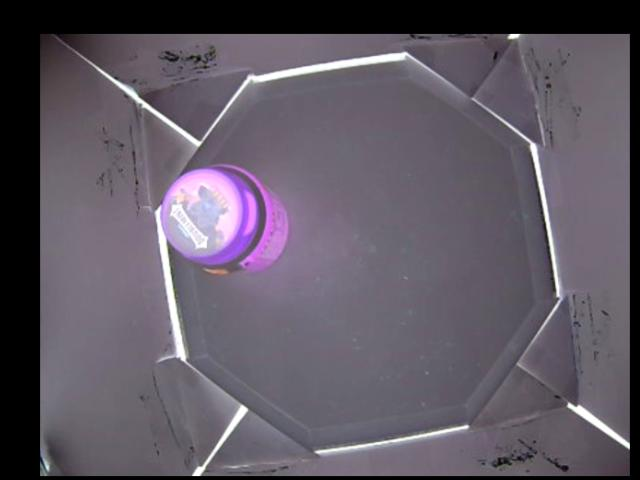Bottle: (160, 161, 292, 277)
